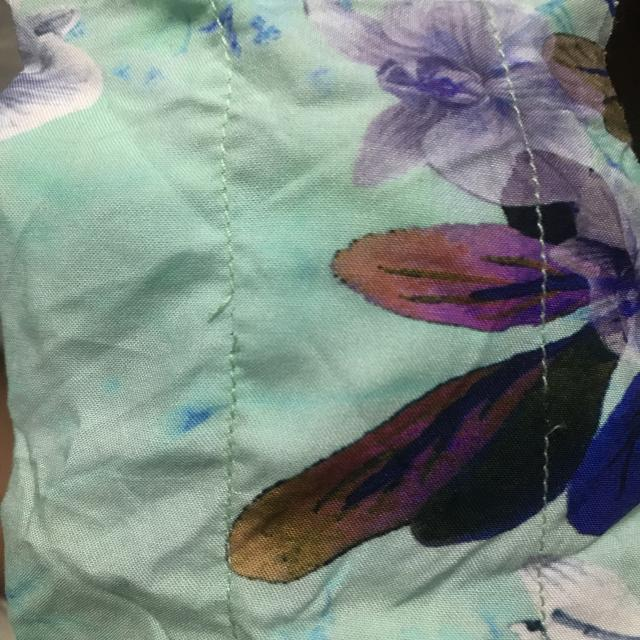broken: (201, 288, 271, 358)
good: (199, 174, 251, 263)
